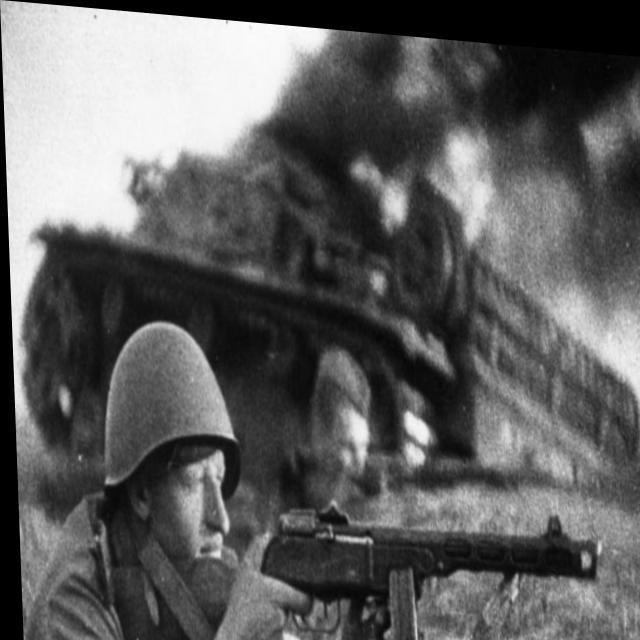other: (26, 286, 273, 640), (284, 322, 407, 512)
